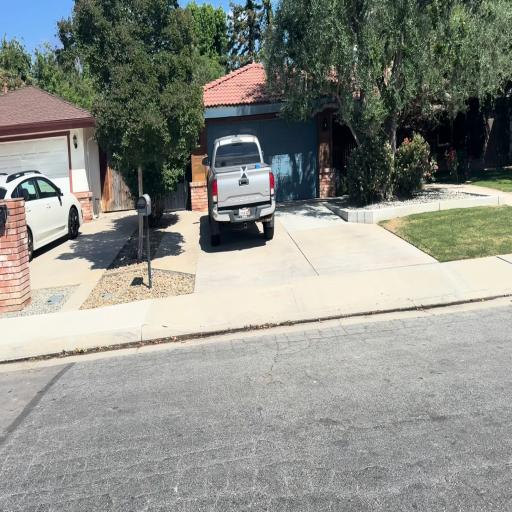target1: (240, 166, 248, 178)
